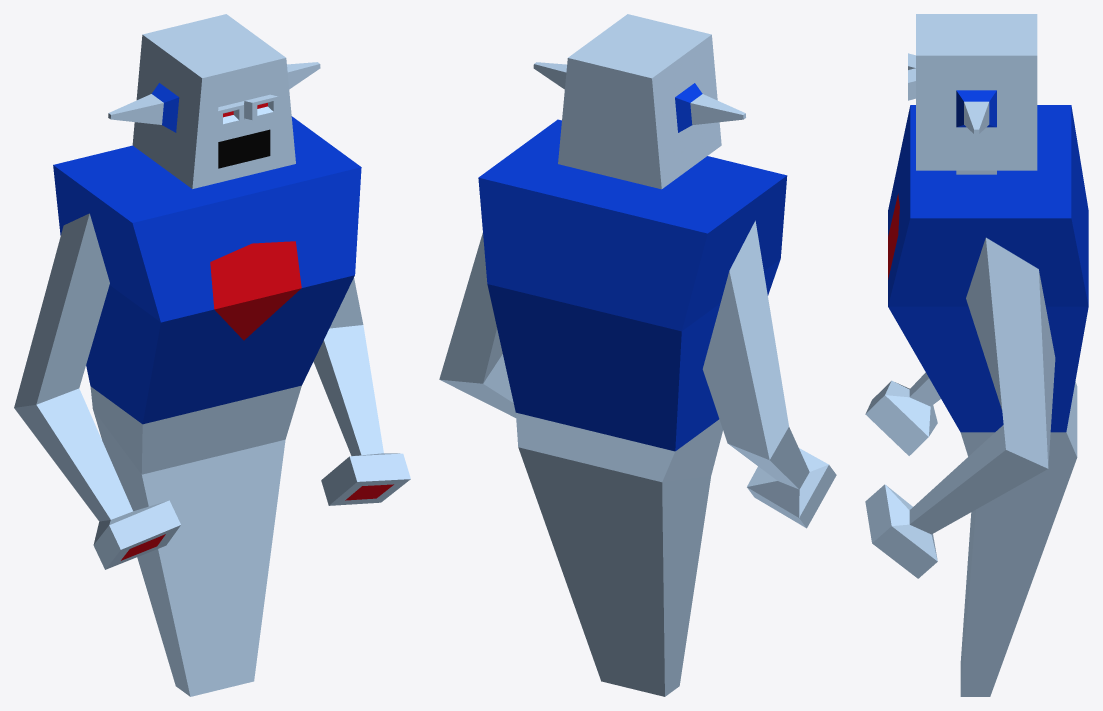
File: Robot.fbx
3 views of the same model, side by side, from view 1: azimuth 30°, elevation 25°; view 2: azimuth 150°, elevation 25°; view 3: azimuth 270°, elevation 25° (orthographic).
Visible parts, largest first — view 1: Cube; view 2: Cube; view 3: Cube.
Boxes of the visible parts, left/top/right/bottom form: Cube: left=14, top=14, right=410, bottom=696; Cube: left=439, top=14, right=836, bottom=696; Cube: left=865, top=14, right=1088, bottom=696.
Size of the model in its own units: 76.21 by 141 by 44.04.
